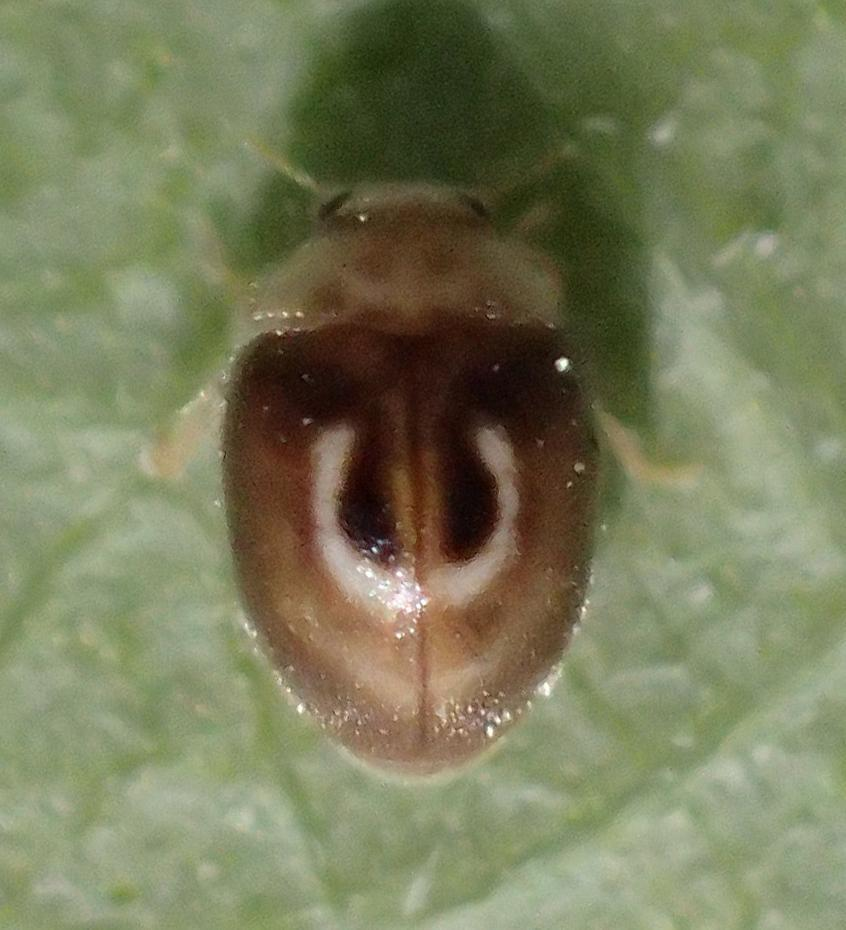ladybug: (144, 139, 711, 784)
